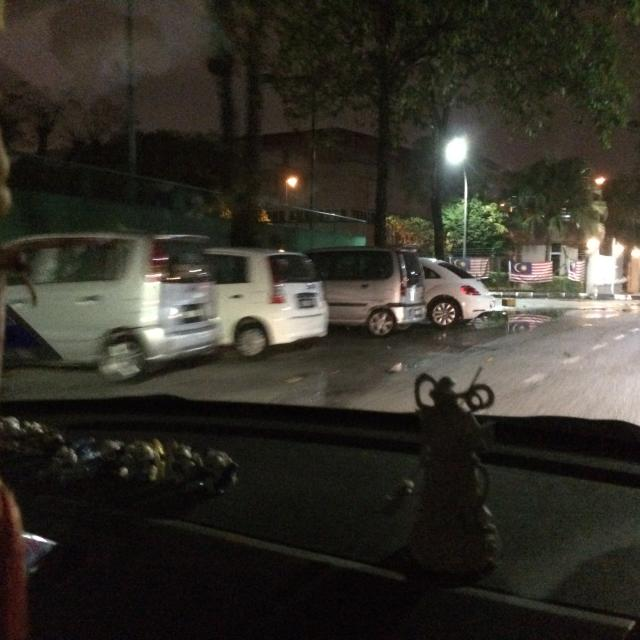Car: (65, 209, 228, 378), (188, 222, 356, 364), (322, 215, 460, 358), (402, 237, 518, 334)
